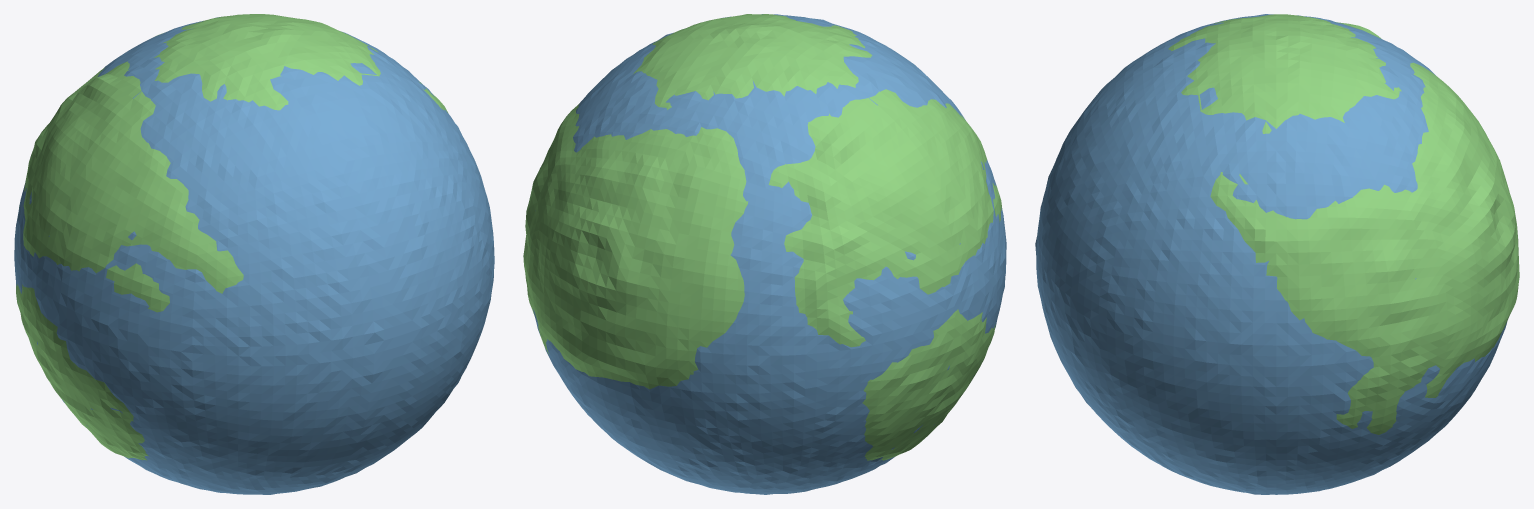
Rendered from LowPolyPlanetTest001.fbx.
The picture shows the model from 3 angles, left to right: view 1: azimuth 30°, elevation 25°; view 2: azimuth 150°, elevation 25°; view 3: azimuth 270°, elevation 25°; orthographic projection.
Parts seen in each view (by area): view 1: TestWater, TestSegment002, TestSegment001, TestSegment004, PlanetUnfinishedUntouched, TestSegment005; view 2: TestWater, TestSegment003, TestSegment002, TestSegment001, TestSegment004, PlanetUnfinishedUntouched; view 3: TestWater, TestSegment003, TestSegment001, PlanetUnfinishedUntouched.
Boxes of the visible parts, x1,y1,x2,y2 form: TestWater: (14,17,494,494); TestSegment002: (19,62,243,293); TestSegment001: (155,14,380,110); TestSegment004: (16,284,147,460); PlanetUnfinishedUntouched: (17,25,444,459); TestSegment005: (106,263,169,311); TestWater: (533,14,1006,494); TestSegment003: (523,103,748,389); TestSegment002: (768,89,993,347); TestSegment001: (636,14,872,109); TestSegment004: (862,309,994,460); PlanetUnfinishedUntouched: (531,14,1002,460); TestWater: (1035,14,1507,494); TestSegment003: (1211,63,1519,434); TestSegment001: (1168,14,1401,128); PlanetUnfinishedUntouched: (1168,14,1499,434).
Size of the model in its own units: 99.99 by 101 by 101.
